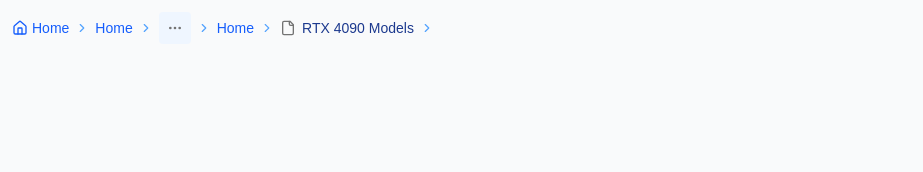
Breadcrumb Component › Truncation › expands when expand button is clicked
This screenshot has width=923, height=172.
Click the button named "Show 5 more breadcrumb items".
click(175, 28)  # box [159,12,191,44]
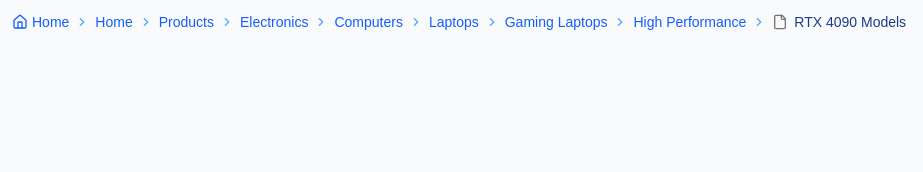
Check: the link "Electronics" is shown, box [240,12,308,32]
Check: the link "Computers" is shown, box [334,12,403,32]
